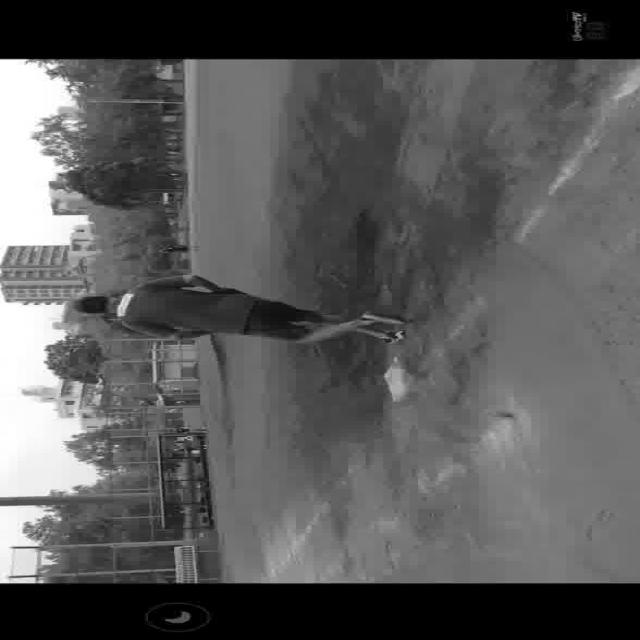base: (382, 354, 410, 402)
shoe: (378, 326, 420, 344), (358, 310, 411, 324)
